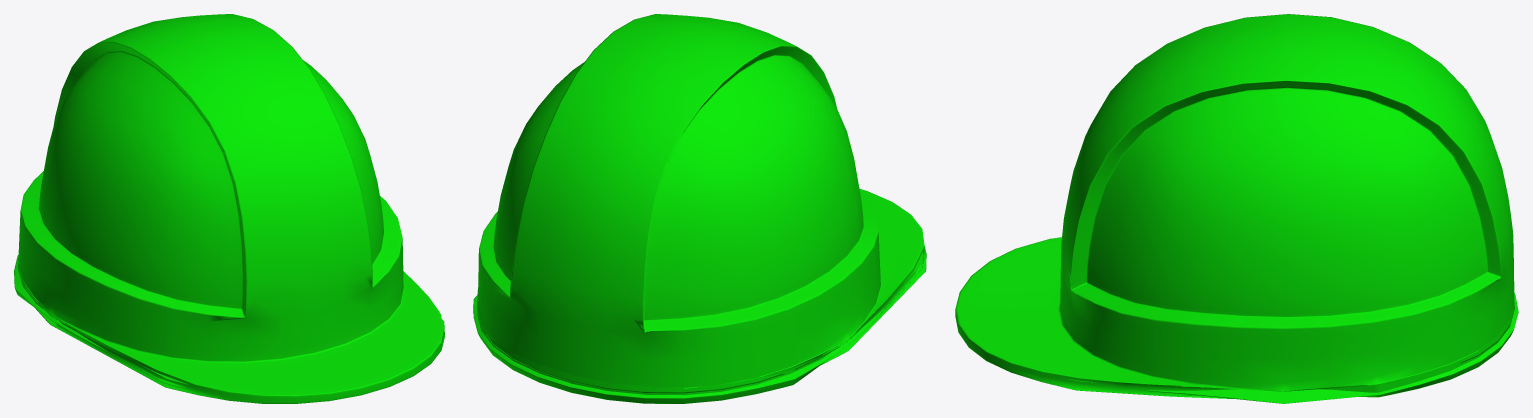
The model's file is HARDHAT3.fbx.
3 renders of one model, left to right at view 1: azimuth 30°, elevation 25°; view 2: azimuth 150°, elevation 25°; view 3: azimuth 270°, elevation 25°, orthographic. The views are drawn at different scales.
Parts seen in each view (by area): view 1: Cube; view 2: Cube; view 3: Cube.
Part boxes in pixels (bbox=[...]): Cube: bbox=[14, 14, 444, 403]; Cube: bbox=[473, 14, 926, 403]; Cube: bbox=[955, 14, 1518, 403].
Bounding box in the file's own units: 188 × 142 × 257.
